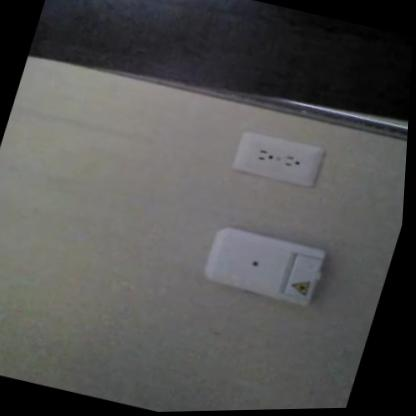OUTLET: (230, 126, 329, 191)
